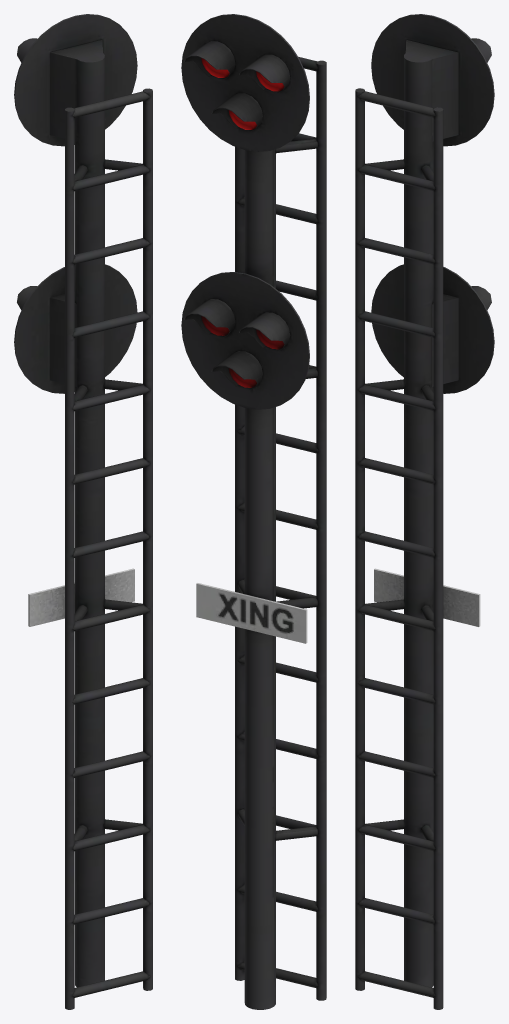
The picture shows the model from 3 angles, left to right: view 1: azimuth 30°, elevation 25°; view 2: azimuth 150°, elevation 25°; view 3: azimuth 330°, elevation 25°; orthographic projection. The views are drawn at different scales.
Visible parts, largest first — view 1: body0_model0_lod0_mesh0; view 2: body0_model0_lod0_mesh0; view 3: body0_model0_lod0_mesh0.
Boxes of the visible parts, <box> form: body0_model0_lod0_mesh0: <box>14,14,152,1009</box>; body0_model0_lod0_mesh0: <box>181,14,326,1009</box>; body0_model0_lod0_mesh0: <box>355,14,494,1009</box>.
Size of the model in its own units: 55.98 by 418 by 43.73.
Materials: 1 (1 with a texture image).
